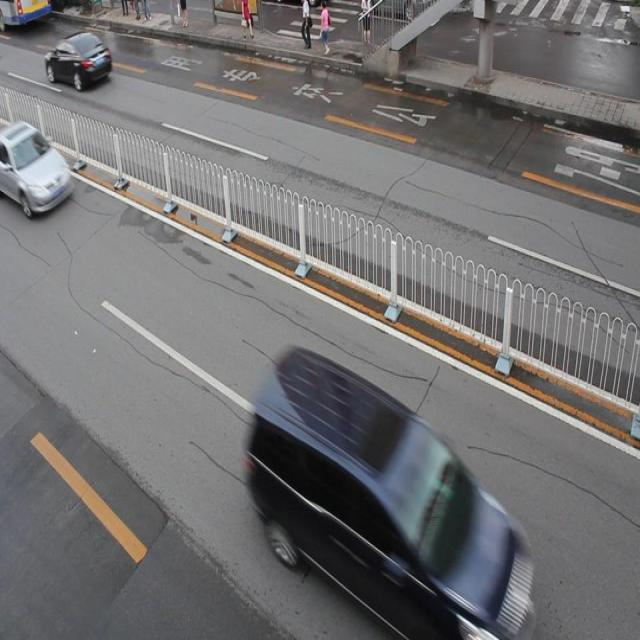car: (1, 118, 75, 215), (45, 31, 113, 90)
truck: (251, 347, 535, 640)
